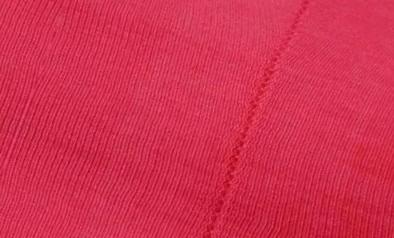slub: (202, 1, 315, 238)
